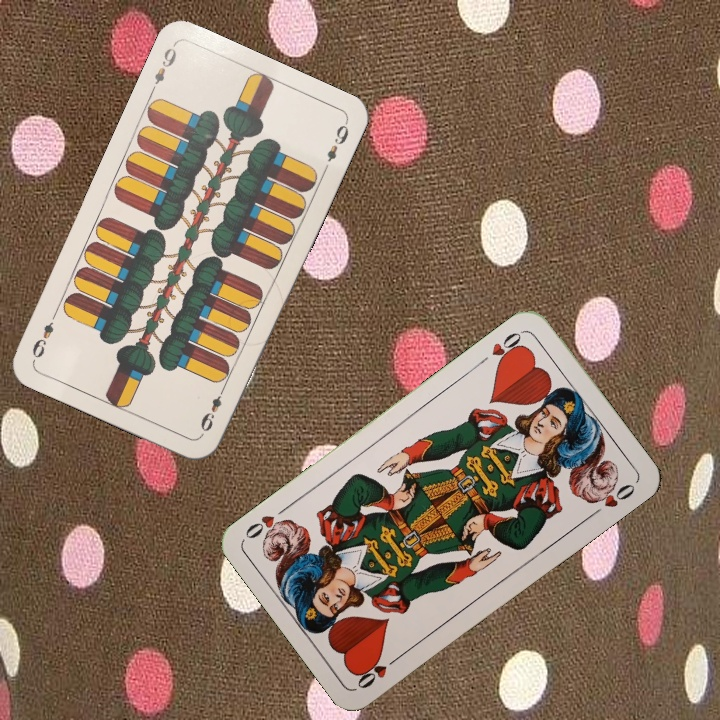E9: (146, 41, 180, 97), (196, 382, 228, 435)
HO: (475, 326, 527, 368), (353, 650, 404, 692)
